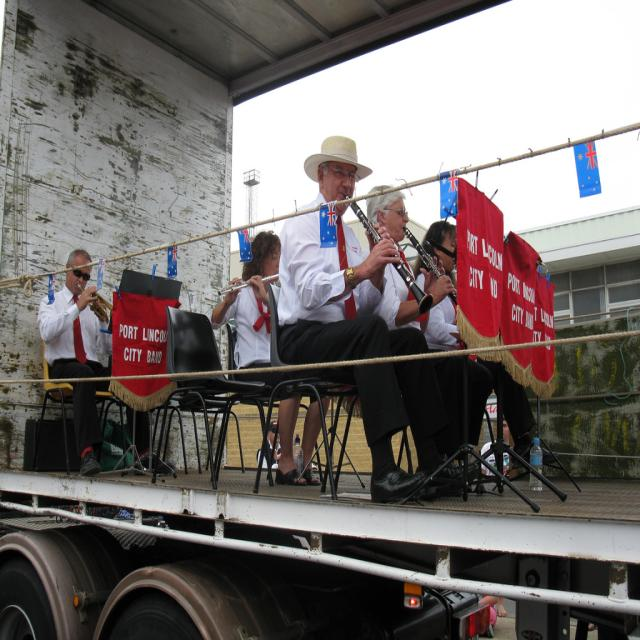clarinet: (338, 194, 436, 318), (401, 224, 459, 306)
